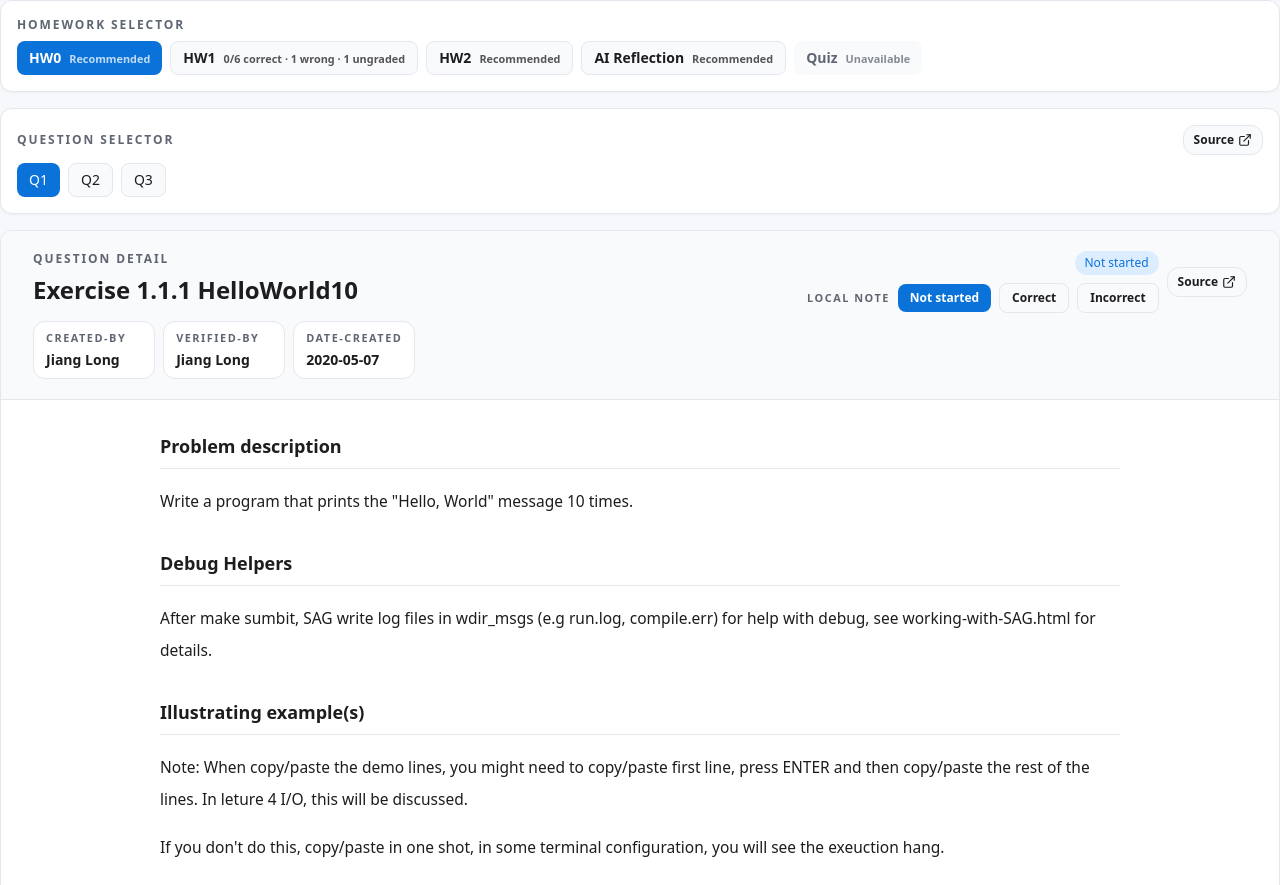
Test: HomeworkPracticeBoard › renders incorrect, ungraded, and not-started teacher-site homework states distinctly
Click the button "HW10/6 correct · 1 wrong · 1 ungraded".
click(294, 58)  # box [170,41,418,75]
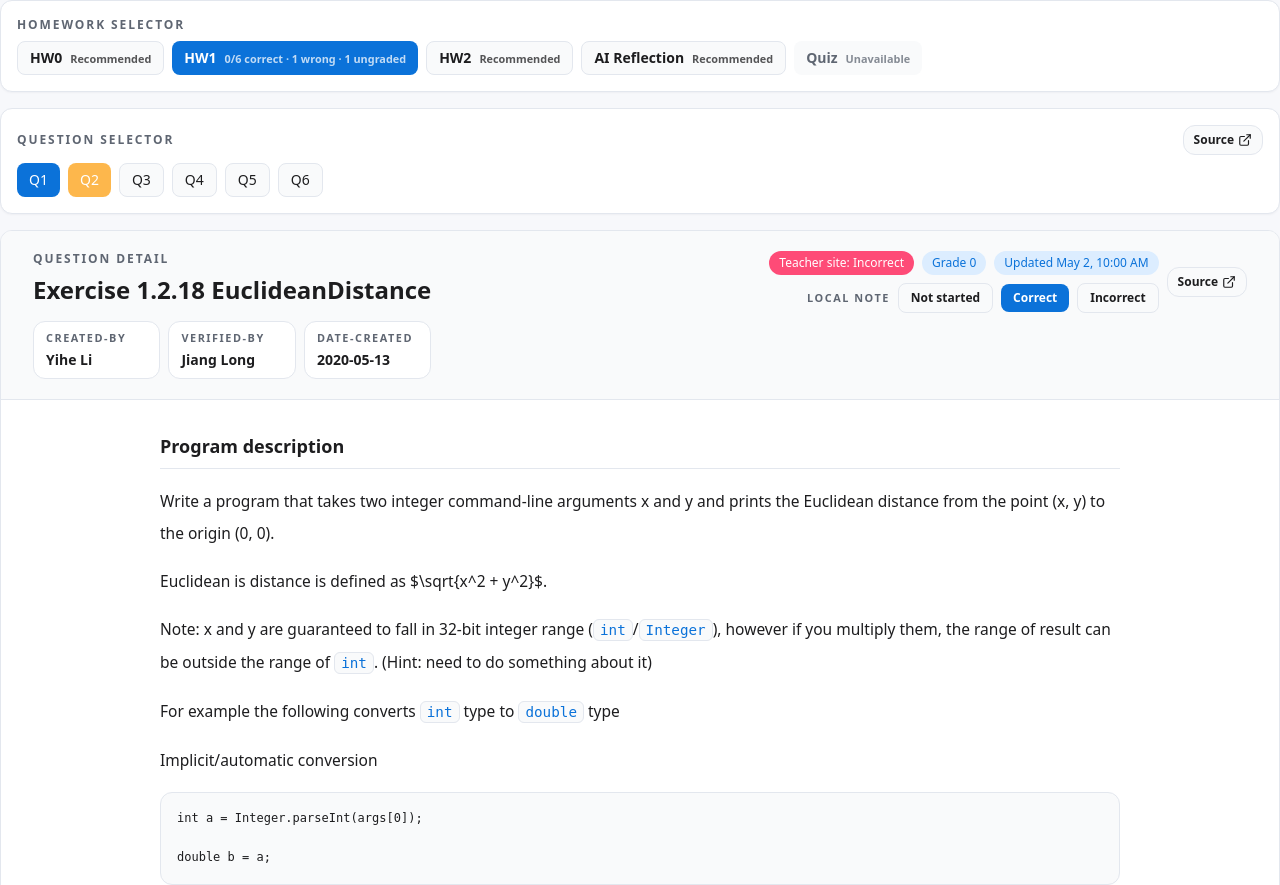
Expected: the text "0/6 correct · 1 wrong · 1 ungraded" is shown, [225,51,406,66]
Now the text "Teacher site: Incorrect" is shown, box [769,251,914,275]
Now the text "Grade 0" is shown, box [922,251,986,275]
Click the button "Q2".
click(90, 180)  # box [68,163,111,197]
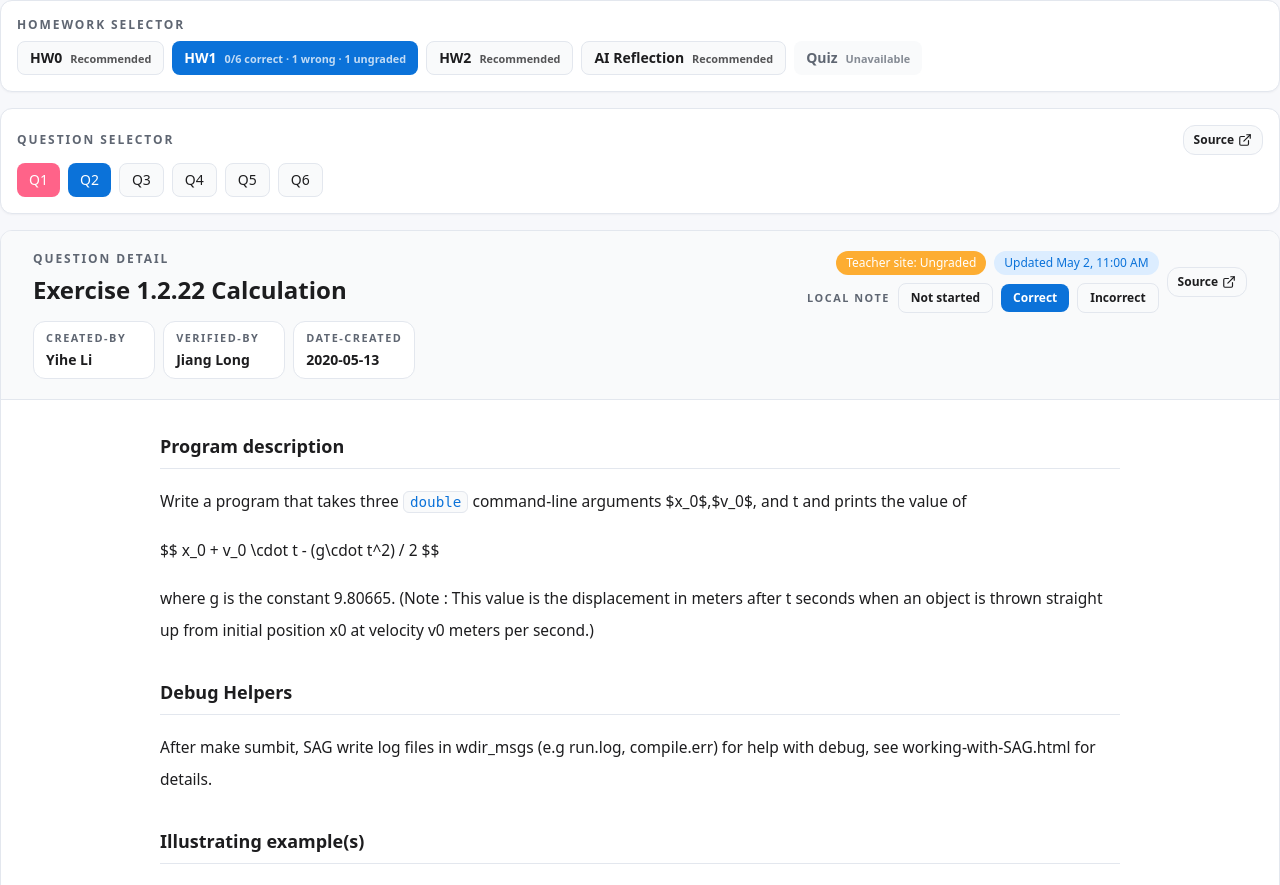
Now the text "Teacher site: Ungraded" is shown, box [836,251,986,275]
